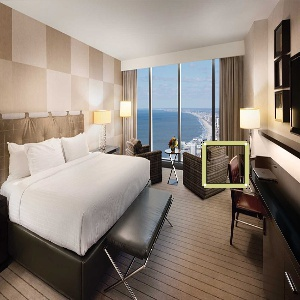square: (200, 140, 250, 188)
